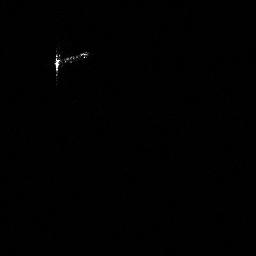ship: (54, 52, 88, 69)
